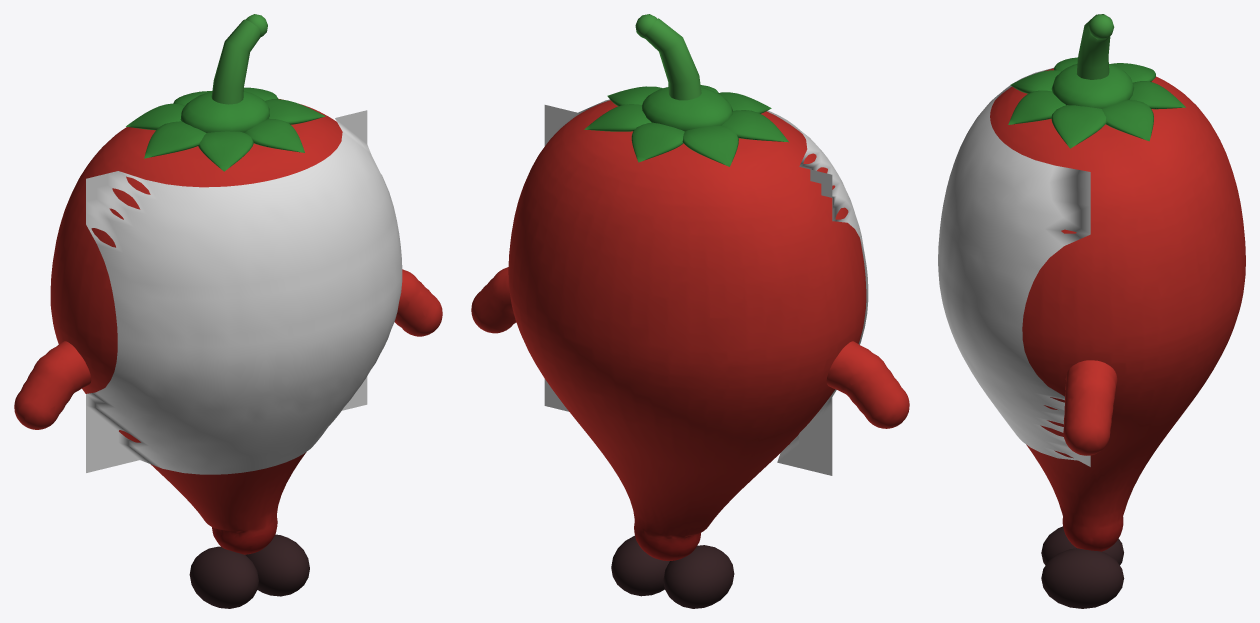
Rendered from folk2_chili.glb.
The picture shows the model from 3 angles, left to right: view 1: azimuth 30°, elevation 25°; view 2: azimuth 150°, elevation 25°; view 3: azimuth 270°, elevation 25°; orthographic projection. The views are drawn at different scales.
Visible parts, largest first — view 1: chili_face, chili_body, chili_arm_l, chili_foot_l, chili_foot_r, chili_arm_r; view 2: chili_body, chili_face, chili_arm_l, chili_foot_l, chili_foot_r, chili_arm_r; view 3: chili_body, chili_face, chili_arm_r, chili_foot_r, chili_foot_l.
Boxes of the visible parts, left/top/right/bottom form: chili_face: left=86, top=110, right=402, bottom=474; chili_body: left=50, top=14, right=342, bottom=554; chili_arm_l: left=14, top=341, right=91, bottom=429; chili_foot_l: left=189, top=546, right=258, bottom=608; chili_foot_r: left=245, top=534, right=309, bottom=596; chili_arm_r: left=394, top=269, right=442, bottom=336; chili_body: left=508, top=14, right=866, bottom=560; chili_face: left=544, top=99, right=868, bottom=475; chili_arm_l: left=826, top=341, right=909, bottom=428; chili_foot_l: left=663, top=545, right=734, bottom=608; chili_foot_r: left=611, top=535, right=669, bottom=596; chili_arm_r: left=471, top=267, right=516, bottom=333; chili_body: left=990, top=14, right=1245, bottom=551; chili_face: left=938, top=67, right=1090, bottom=466; chili_arm_r: left=1063, top=360, right=1117, bottom=455; chili_foot_r: left=1041, top=548, right=1124, bottom=608; chili_foot_l: left=1041, top=526, right=1123, bottom=565.
Bounding box in the file's own units: 0.9941 × 1.29 × 0.6146.
